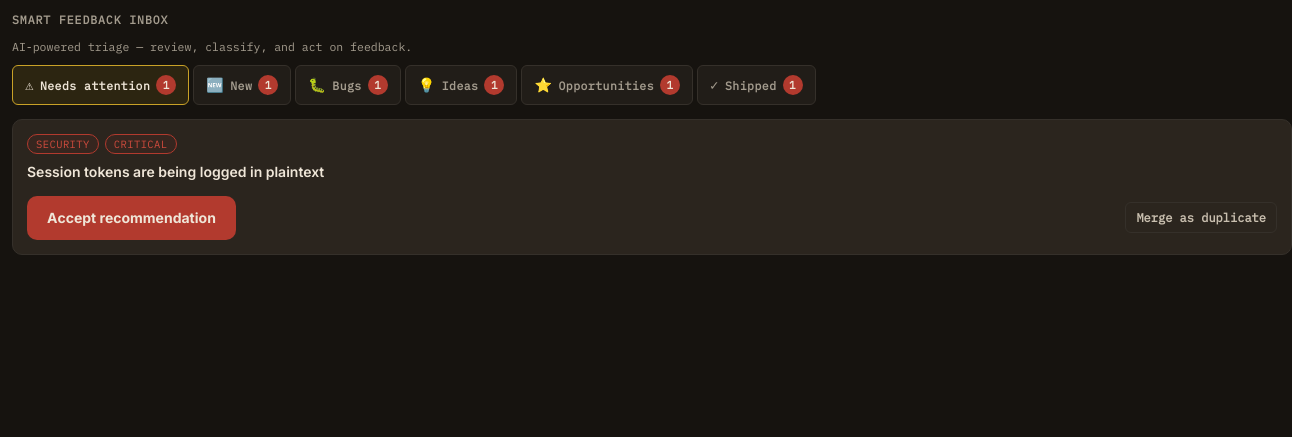
Test: SmartFeedbackInbox — opportunity cards › shows confidence percentage in expanded details
Click the tab "💡 Ideas 1": [461, 85] box [405, 65, 518, 105]
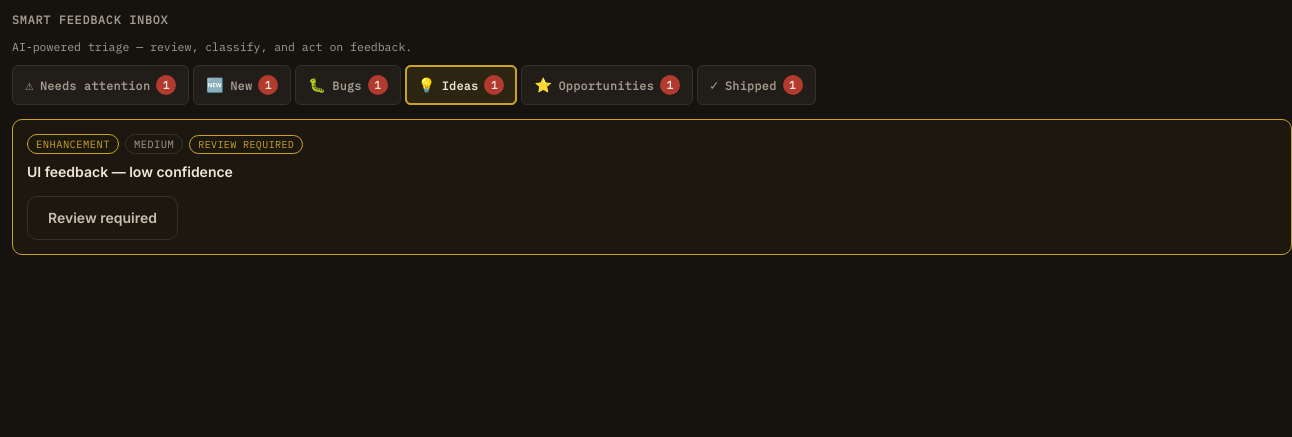
Expected: the text "UI feedback — low confidence" is shown, [27, 163, 233, 180]
Click the button "Review required": [102, 218] box [27, 196, 178, 240]
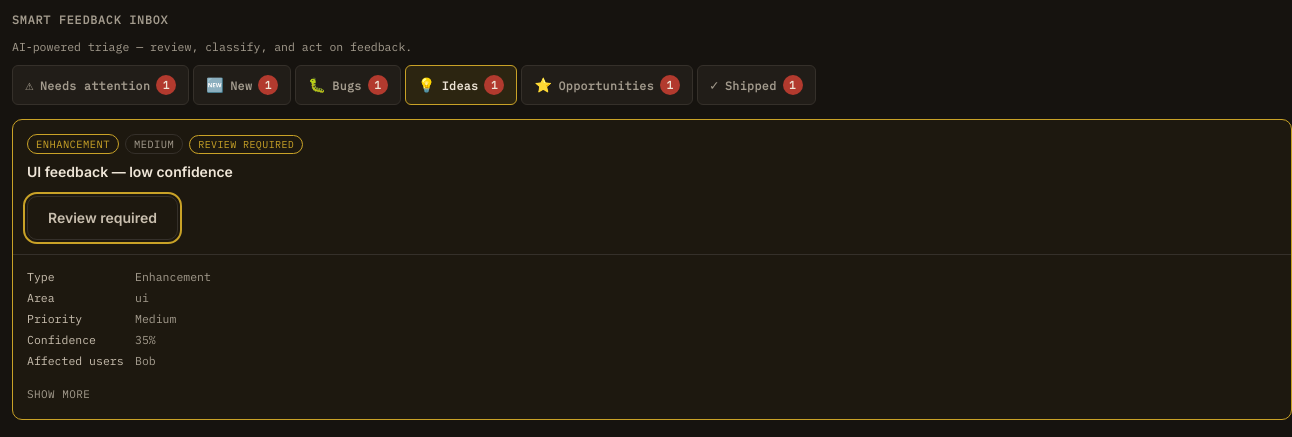
Expected: the text "35%" is shown, [135, 332, 156, 347]
